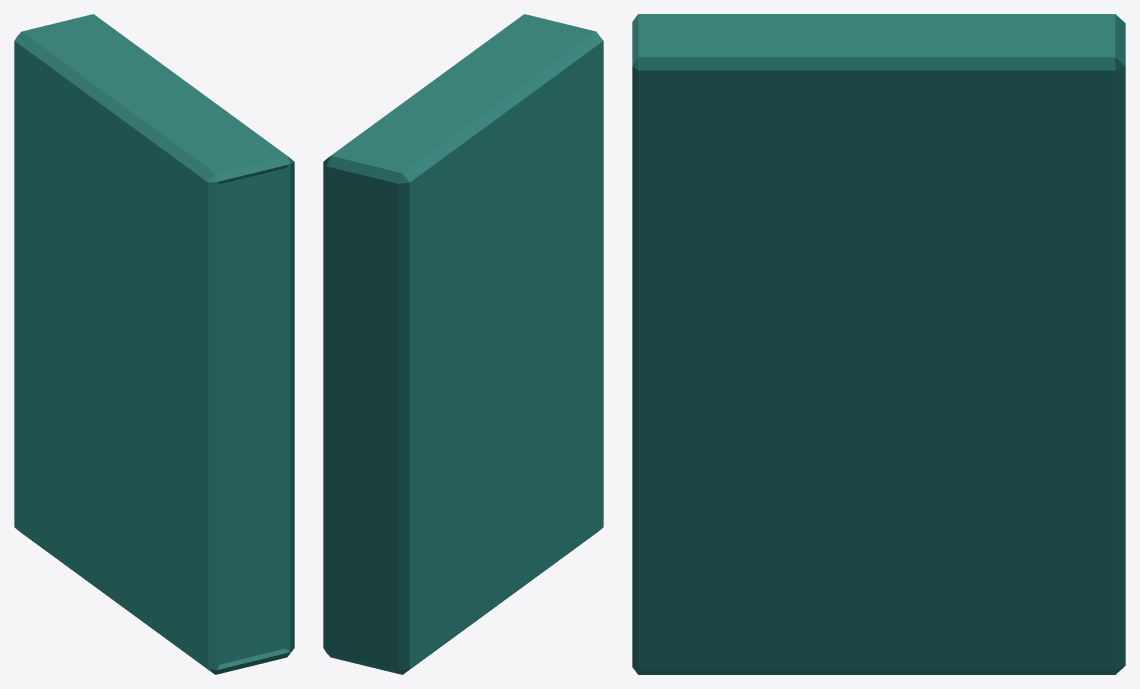
File: Bridge_Anchor.gltf
3 renders of one model, left to right at view 1: azimuth 30°, elevation 25°; view 2: azimuth 150°, elevation 25°; view 3: azimuth 270°, elevation 25°, orthographic. The views are drawn at different scales.
Parts seen in each view (by area): view 1: Bridge_Anchor_baked; view 2: Bridge_Anchor_baked; view 3: Bridge_Anchor_baked.
Boxes of the visible parts, bbox=[...] form: Bridge_Anchor_baked: bbox=[14, 14, 294, 674]; Bridge_Anchor_baked: bbox=[323, 14, 603, 674]; Bridge_Anchor_baked: bbox=[632, 14, 1125, 674].
Size of the model in its own units: 0.18 by 1 by 0.7236.
